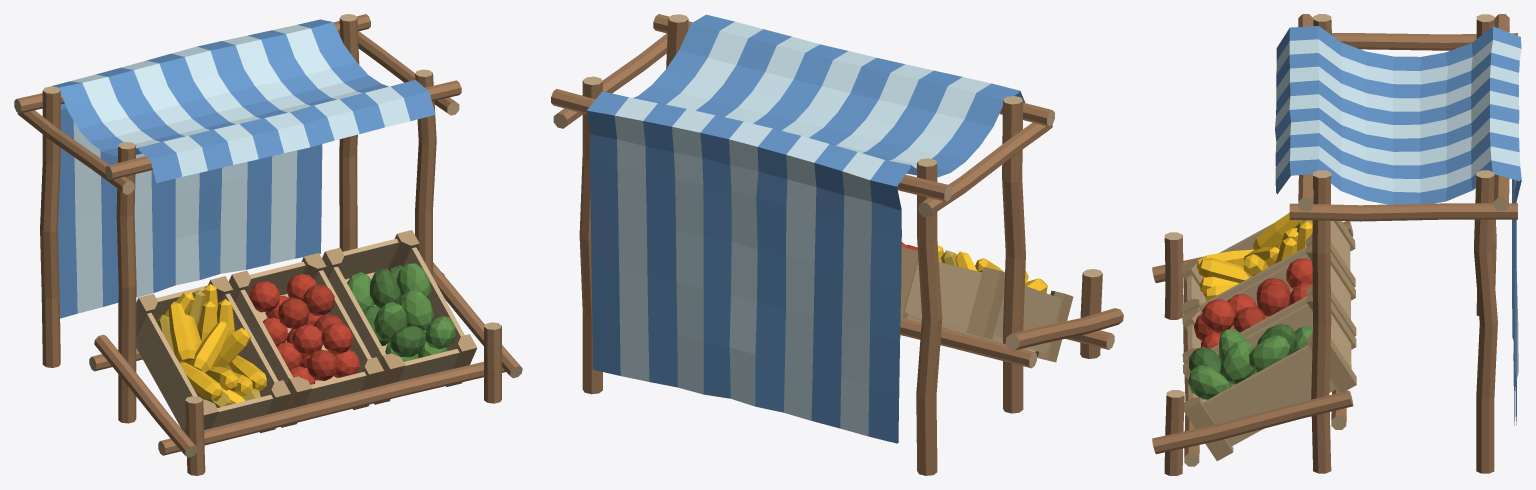
Rendered from Stall01.fbx.
3 views of the same model, side by side, from view 1: azimuth 30°, elevation 25°; view 2: azimuth 150°, elevation 25°; view 3: azimuth 270°, elevation 25° (orthographic). The views are drawn at different scales.
Visible parts, largest first — view 1: Stall01; view 2: Stall01; view 3: Stall01.
Boxes of the visible parts, x1,y1,x2,y2 form: Stall01: (14, 14, 522, 475); Stall01: (551, 14, 1123, 475); Stall01: (1152, 14, 1521, 475).
Bounding box in the file's own units: 4 × 3.02 × 3.4.
